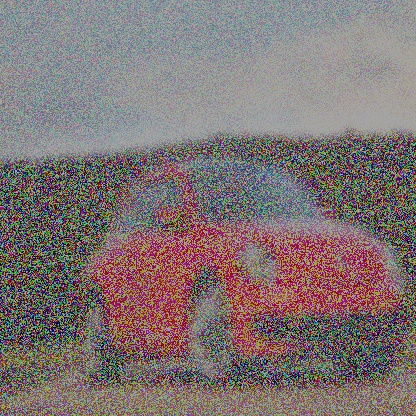Vehicle: (77, 156, 413, 388)
